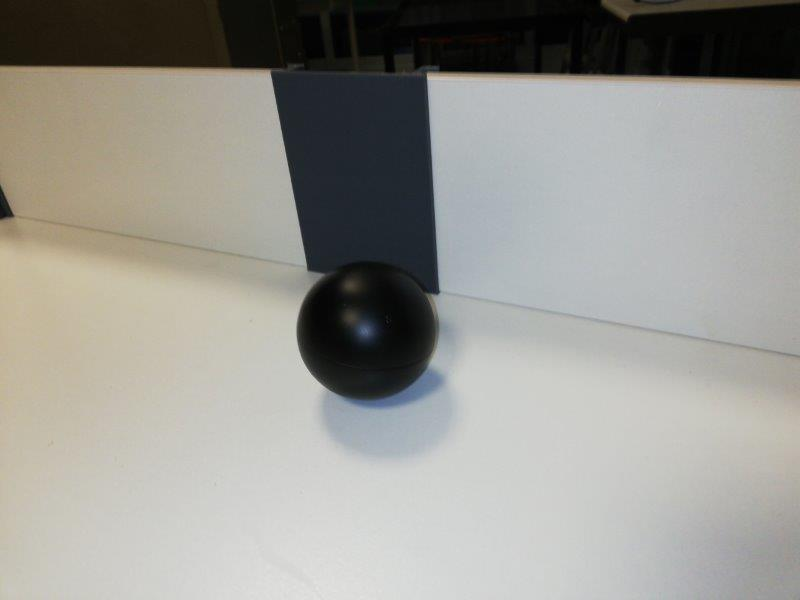nera: (295, 261, 437, 403)
